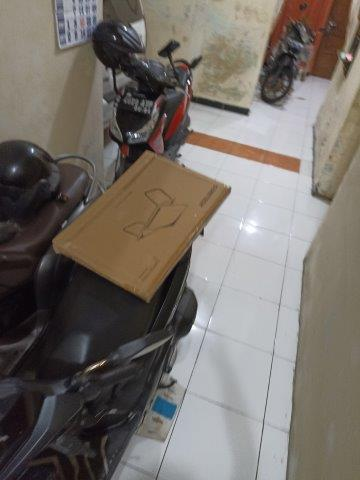kardus: (55, 154, 229, 296)
